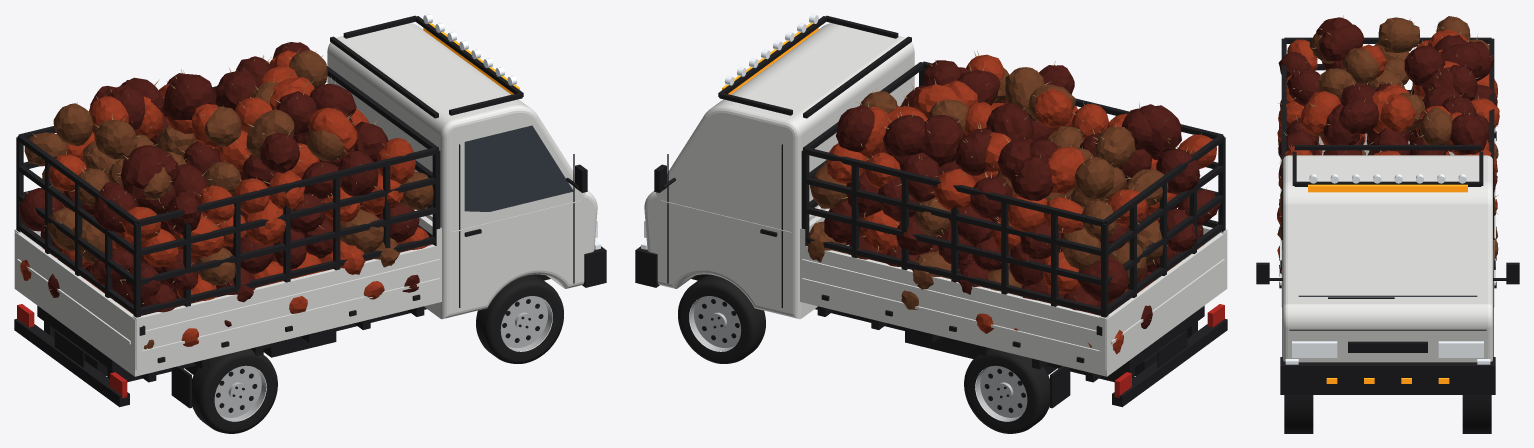
The model's file is pickup_muatan_sawit.glb.
3 renders of one model, left to right at view 1: azimuth 30°, elevation 25°; view 2: azimuth 150°, elevation 25°; view 3: azimuth 270°, elevation 25°, orthographic. The views are drawn at different scales.
Parts seen in each view (by area): view 1: cab_body, tbs_load_dark, tbs_load_red, tbs_load_brown, side_gate_R, side_window_R, tailgate, bed_floor, wheel_front_R_tyre, wheel_rear_R_tyre, cage_rail_3R, cage_rail_1R (+27 smaller); view 2: cab_body, tbs_load_dark, tbs_load_red, tbs_load_brown, side_gate_L, tailgate, bed_floor, wheel_front_L_tyre, wheel_rear_L_tyre, cage_rail_3L, cage_rail_2L, cage_rail_1L (+28 smaller); view 3: cab_body, tbs_load_dark, front_bumper, tbs_load_brown, tbs_load_red, roof_light_bar, wheel_arch_liner_L, wheel_arch_liner_R, roof_rack_link, grille_band, headlamp_L, headlamp_R (+9 smaller).
Boxes of the visible parts, <box> form: cab_body: <box>327,23,597,319</box>; tbs_load_dark: <box>19,42,419,326</box>; tbs_load_red: <box>20,50,430,346</box>; tbs_load_brown: <box>24,50,433,349</box>; side_gate_R: <box>132,244,441,368</box>; side_window_R: <box>464,125,573,211</box>; tailgate: <box>17,233,133,366</box>; bed_floor: <box>14,281,441,376</box>; wheel_front_R_tyre: <box>476,274,563,363</box>; wheel_rear_R_tyre: <box>192,348,277,433</box>; cage_rail_3R: <box>136,147,437,226</box>; cage_rail_1R: <box>138,207,437,285</box>; cab_body: <box>644,23,914,319</box>; tbs_load_dark: <box>824,60,1219,328</box>; tbs_load_red: <box>826,54,1216,354</box>; tbs_load_brown: <box>807,67,1205,309</box>; side_gate_L: <box>800,244,1109,368</box>; tailgate: <box>1108,233,1224,366</box>; bed_floor: <box>800,281,1227,376</box>; wheel_front_L_tyre: <box>678,274,765,363</box>; wheel_rear_L_tyre: <box>964,348,1049,433</box>; cage_rail_3L: <box>804,147,1105,226</box>; cage_rail_2L: <box>804,177,1103,256</box>; cage_rail_1L: <box>804,207,1102,285</box>; cab_body: <box>1283,155,1492,362</box>; tbs_load_dark: <box>1278,17,1497,276</box>; front_bumper: <box>1280,357,1495,394</box>; tbs_load_brown: <box>1277,16,1498,259</box>; tbs_load_red: <box>1277,29,1499,258</box>; roof_light_bar: <box>1308,184,1467,192</box>; wheel_arch_liner_L: <box>1462,395,1491,433</box>; wheel_arch_liner_R: <box>1284,395,1313,433</box>; roof_rack_link: <box>1294,145,1481,150</box>; grille_band: <box>1348,341,1427,352</box>; headlamp_L: <box>1438,341,1483,357</box>; headlamp_R: <box>1292,341,1337,357</box>.
Size of the model in its own units: 3.7 by 2.18 by 1.98.
